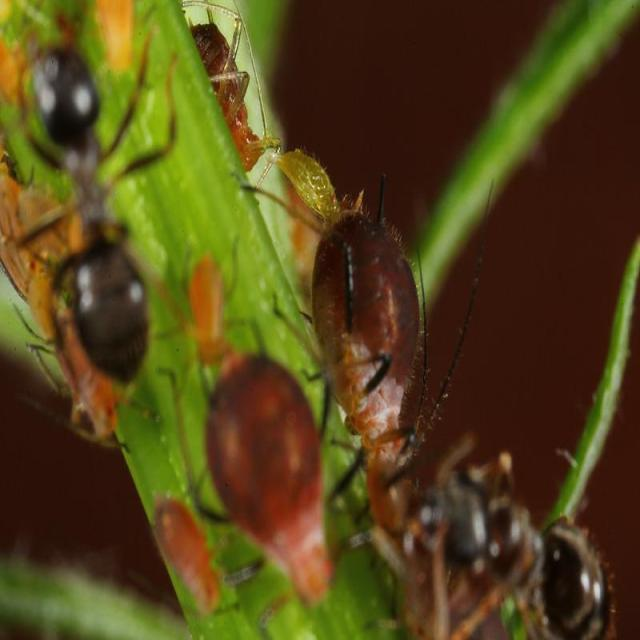Aphids: (282, 164, 482, 505)
